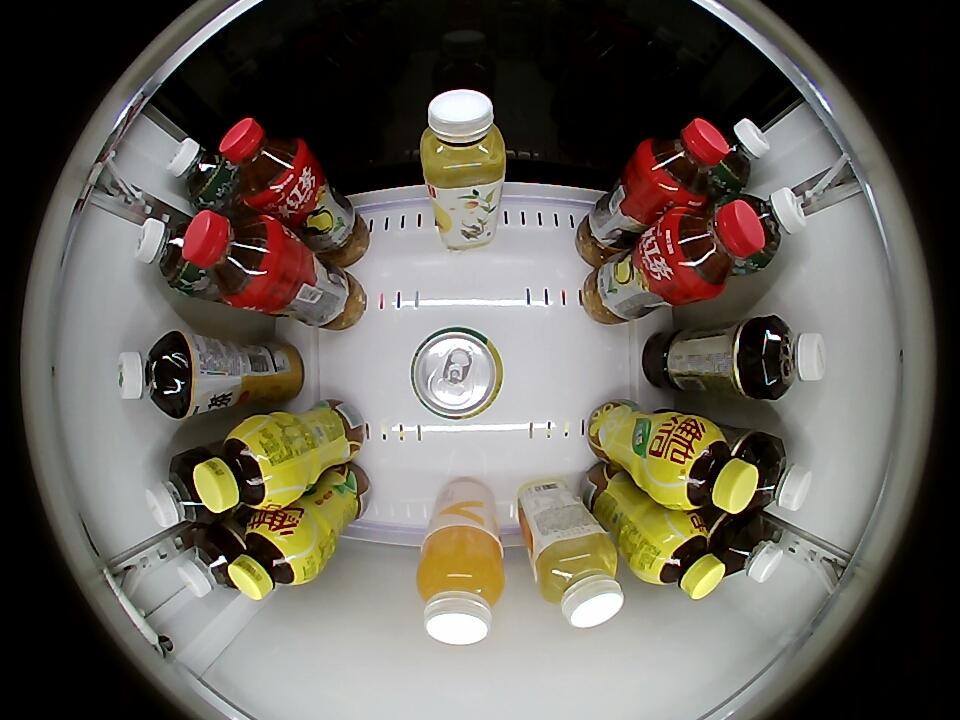binghongcha: (661, 199, 766, 300), (182, 209, 284, 309), (218, 116, 310, 208), (637, 118, 728, 205)
chapai2: (531, 533, 625, 629), (419, 89, 506, 189)
damaicha: (116, 331, 194, 420)
moliqingcha: (735, 187, 807, 264), (134, 217, 201, 292), (167, 137, 233, 208), (710, 118, 770, 191)
weic: (416, 526, 506, 645)
weitaningmeng-bottle: (193, 418, 290, 514), (660, 421, 759, 515), (635, 515, 726, 601), (229, 514, 316, 601)
wulongcha: (750, 316, 827, 401), (747, 437, 813, 512), (146, 454, 212, 529), (178, 527, 243, 598), (718, 515, 784, 583)
xuebi2: (410, 327, 504, 420)
